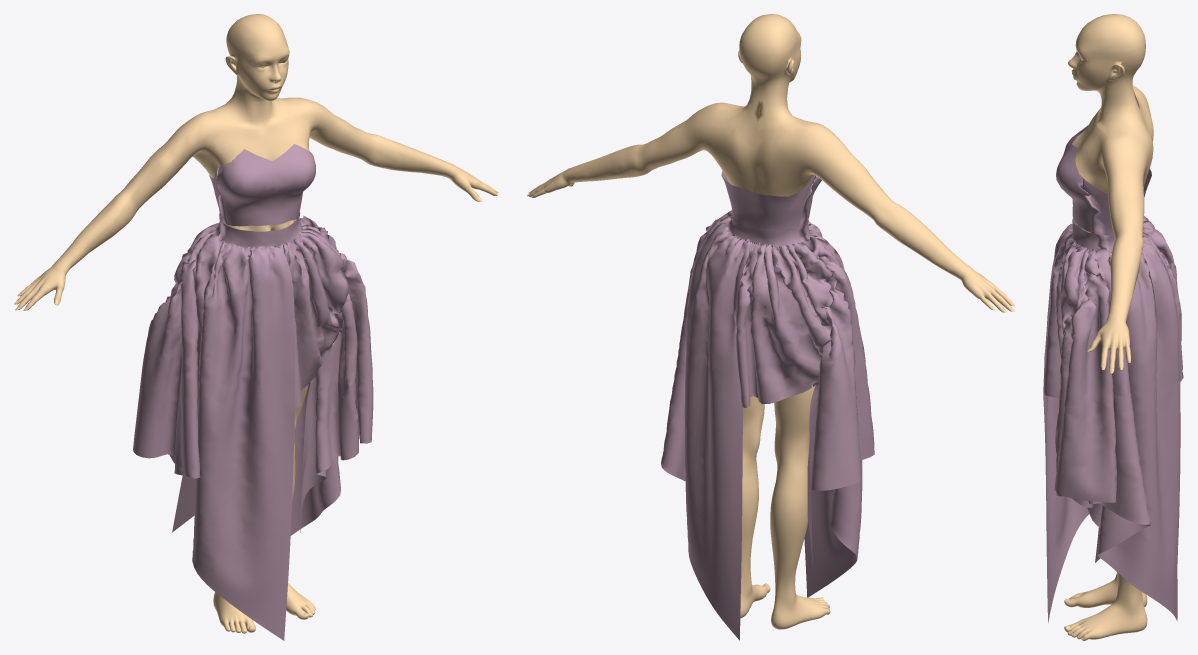
The model's file is dress8.glb.
The picture shows the model from 3 angles, left to right: view 1: azimuth 30°, elevation 25°; view 2: azimuth 150°, elevation 25°; view 3: azimuth 270°, elevation 25°; orthographic projection.
Visible parts, largest first — view 1: Project 1, Body; view 2: Project 1, Body; view 3: Project 1, Body.
Part boxes in pixels (box(x1,y1,x2,y2)): Project 1: box(133, 144, 373, 640); Body: box(16, 14, 498, 633); Project 1: box(661, 171, 874, 640); Body: box(528, 14, 1011, 629); Project 1: box(1043, 125, 1183, 622); Body: box(1064, 14, 1153, 640).
Size of the model in its own units: 1.58 by 1.87 by 0.3896.
